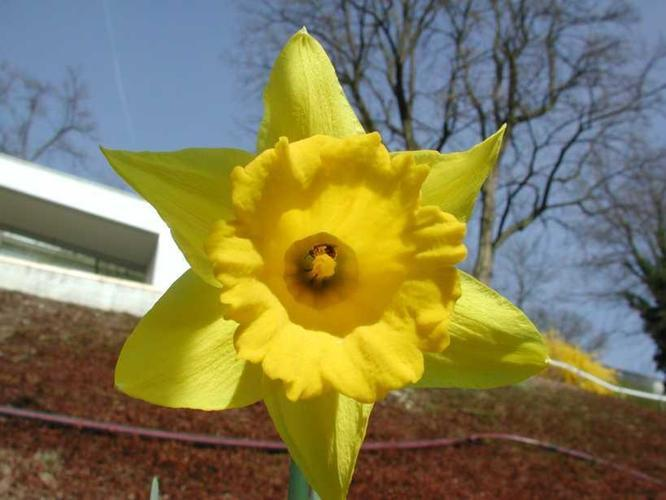flower1: (96, 25, 549, 497)
